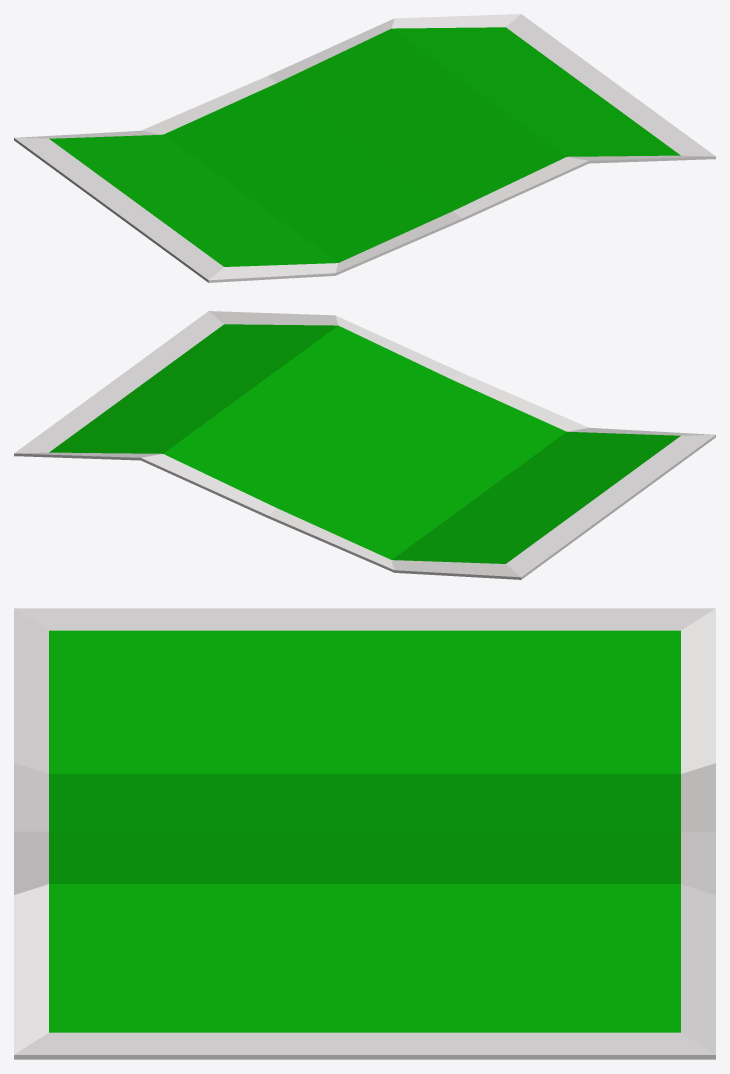
The model's file is Map.fbx.
3 views of the same model, one above another, from view 1: azimuth 30°, elevation 25°; view 2: azimuth 150°, elevation 25°; view 3: azimuth 270°, elevation 25° (orthographic). The views are drawn at different scales.
Visible parts, largest first — view 1: Plane; view 2: Plane; view 3: Plane.
Boxes of the visible parts, x1,y1,x2,y2 form: Plane: [14, 14, 715, 282]; Plane: [14, 311, 715, 579]; Plane: [14, 608, 715, 1059].
Size of the model in its own units: 200 by 20.02 by 133.
